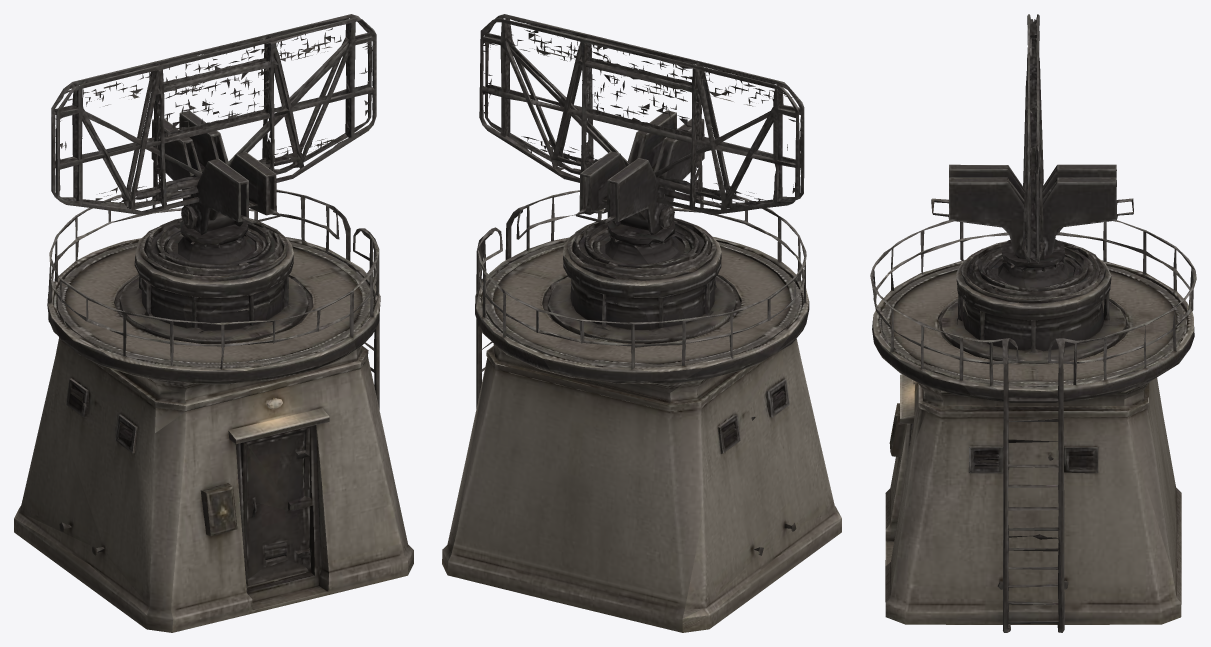
The model's file is radar_sentinel.glb.
3 views of the same model, side by side, from view 1: azimuth 30°, elevation 25°; view 2: azimuth 150°, elevation 25°; view 3: azimuth 270°, elevation 25° (orthographic). The views are drawn at different scales.
Visible parts, largest first — view 1: radar_sentinel; view 2: radar_sentinel; view 3: radar_sentinel.
Part boxes in pixels (x1,y1,x2,y2): radar_sentinel: [14, 14, 413, 632]; radar_sentinel: [442, 14, 841, 632]; radar_sentinel: [870, 14, 1196, 632].
Bounding box in the file's own units: 1.27 × 1.9 × 1.17.
Materials: 1 (1 with a texture image).
